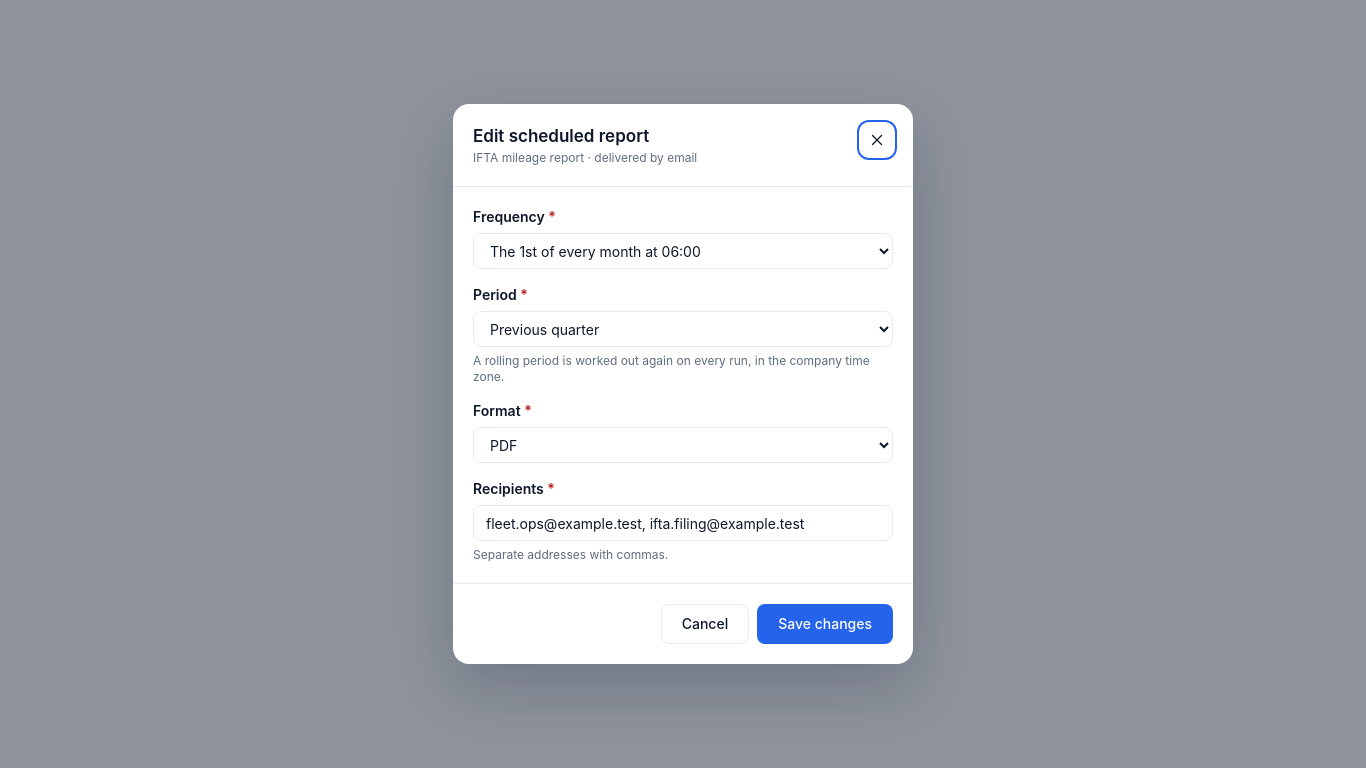
ScheduleReportModal · edit mode › prefills from the schedule and PATCHes the change without touching enabled
Expected: the heading "Edit scheduled report" is shown, [473,126,649,146]
Expected: the field labelled "Recipients * Separate addresses with commas." holds "fleet.ops@example.test, ifta.filing@example.test", [473,505,893,541]
Select "CSV" in the dropdown labelled "Format *" at x=683, y=445, box [473,427,893,463]
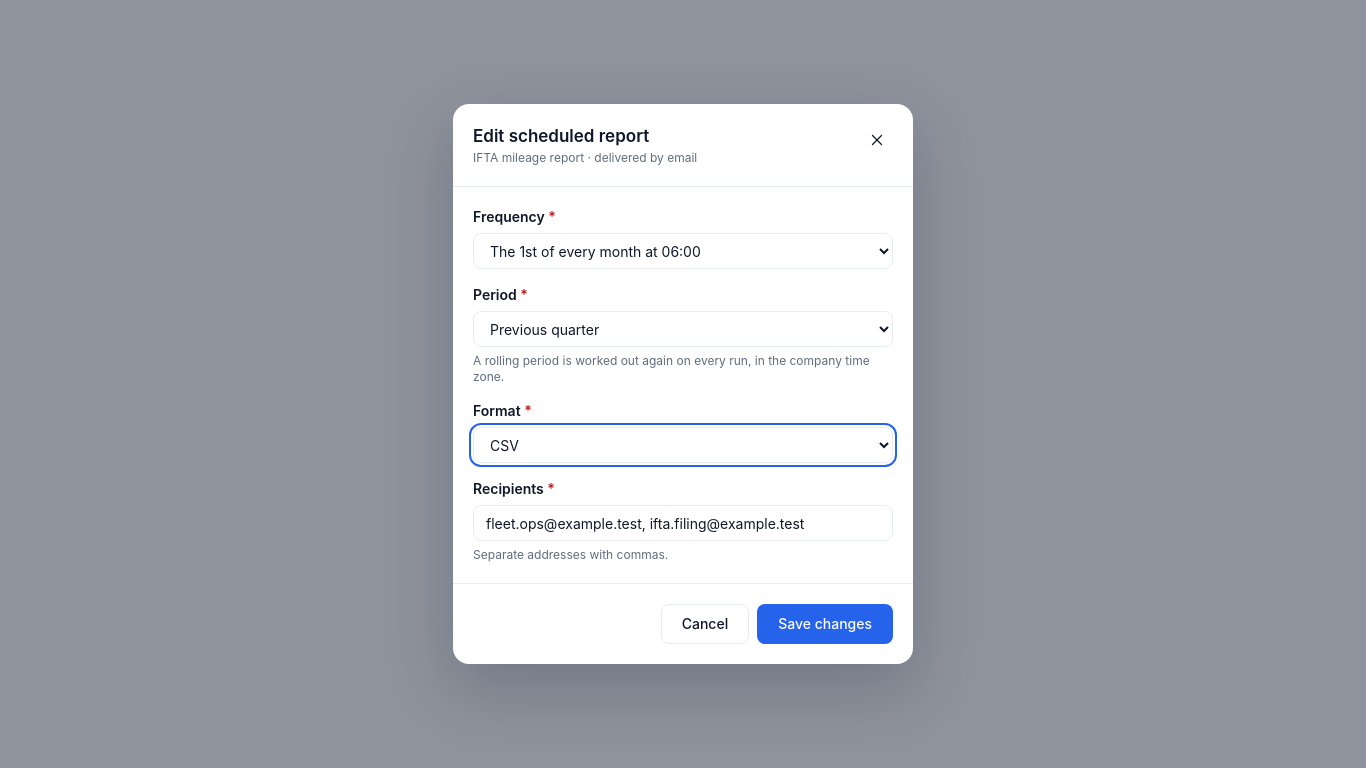
Click the button "Save changes" at x=825, y=624, box [757,604,893,644]
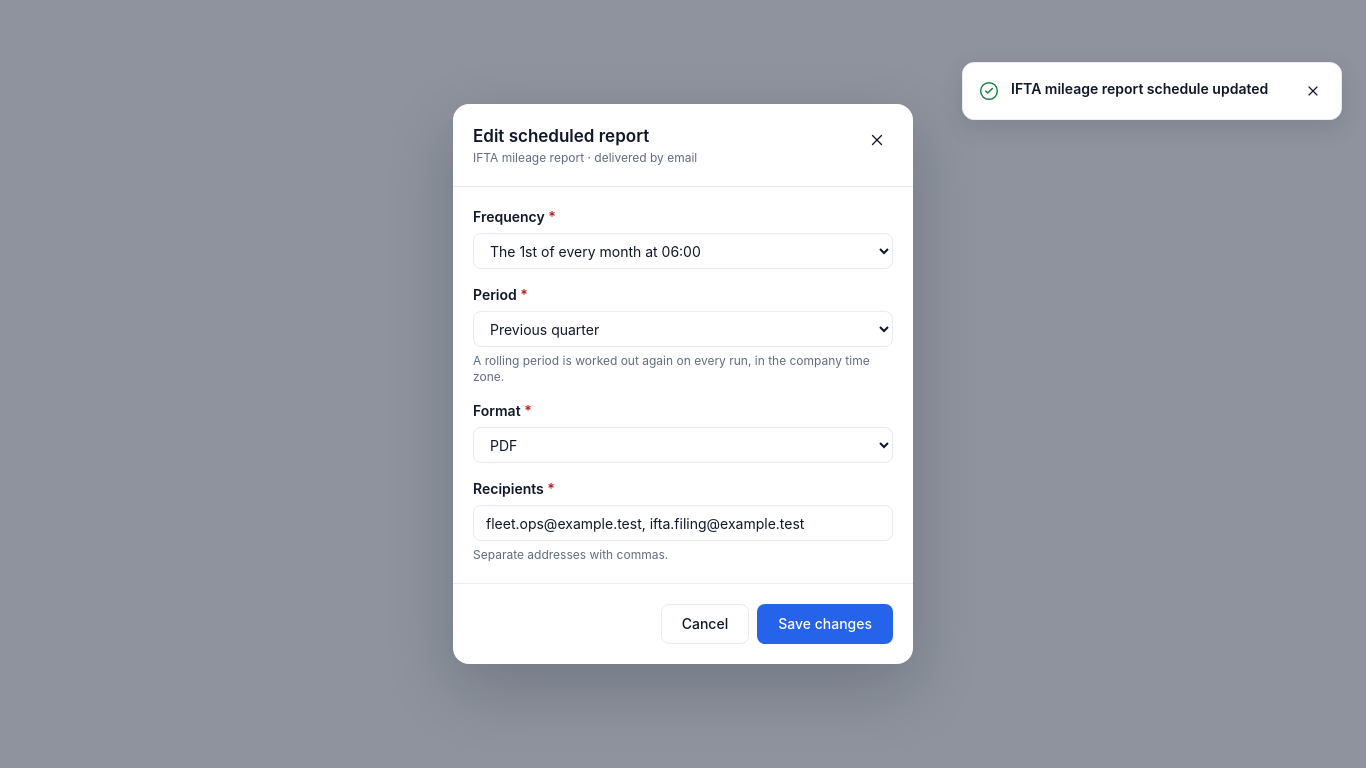
Expected: the text "IFTA mileage report schedule updated" is shown, [1011,79,1289,99]
